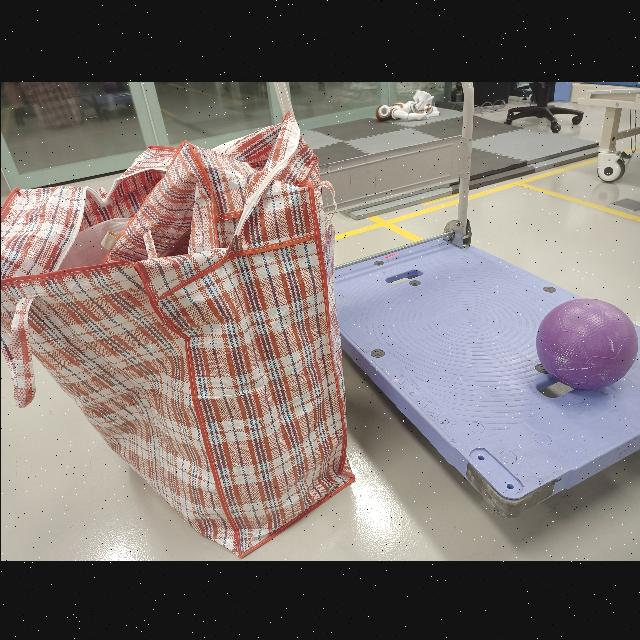P: (535, 297, 637, 389)
